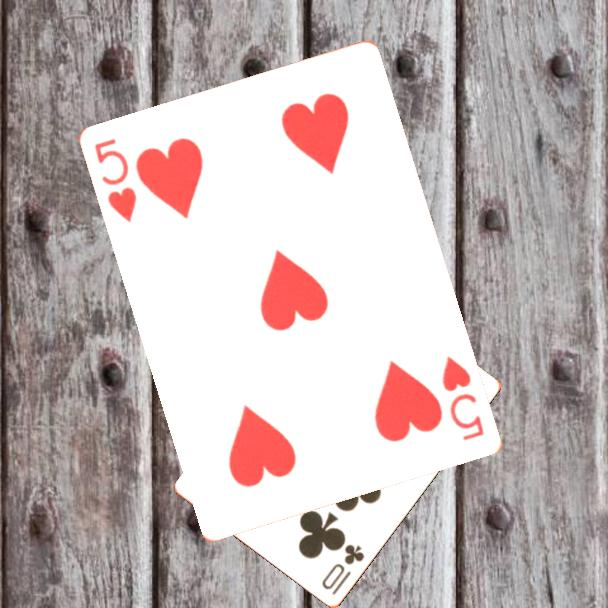c10: (318, 541, 368, 598)
h05: (439, 353, 488, 444), (91, 135, 140, 226)
